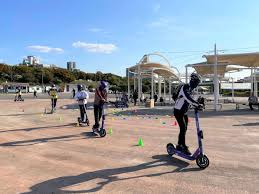kick_wheel: (197, 154, 210, 169), (166, 143, 174, 155)
